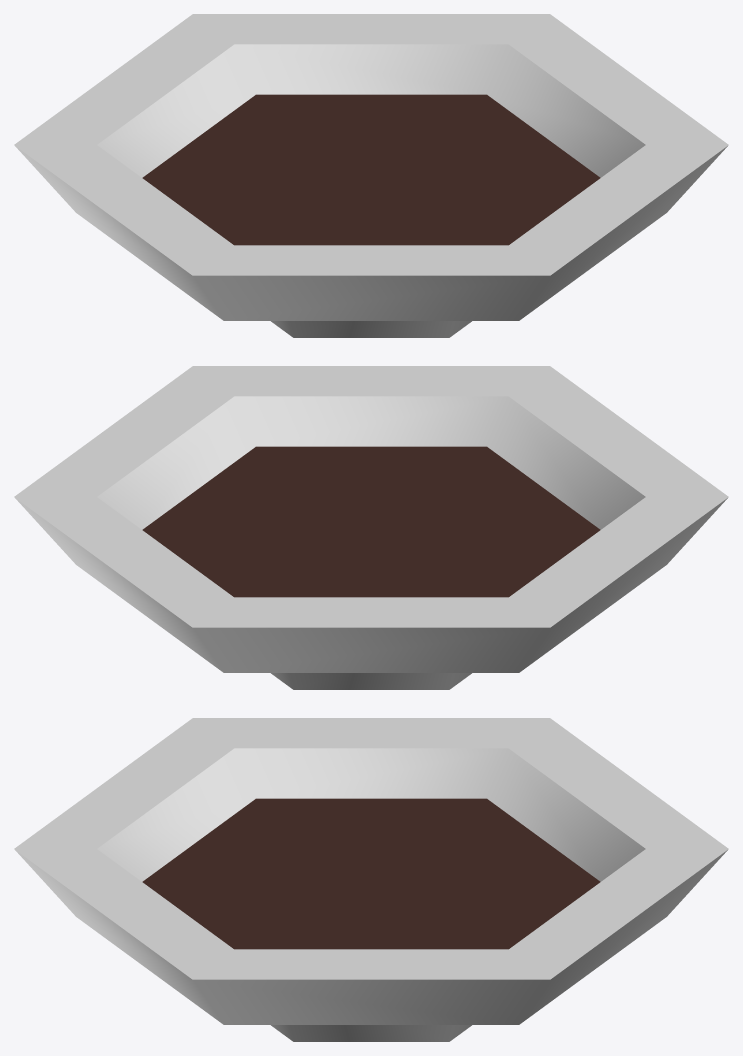
The model's file is soy.obj.
3 renders of one model, top to bottom at view 1: azimuth 30°, elevation 25°; view 2: azimuth 150°, elevation 25°; view 3: azimuth 270°, elevation 25°, orthographic.
Parts seen in each view (by area): view 1: soy; view 2: soy; view 3: soy.
Part boxes in pixels (x1=…): soy: x1=14, y1=14, x2=728, y2=337; soy: x1=14, y1=366, x2=728, y2=689; soy: x1=14, y1=718, x2=728, y2=1041.
Size of the model in its own units: 0.1653 by 0.04 by 0.1909.
